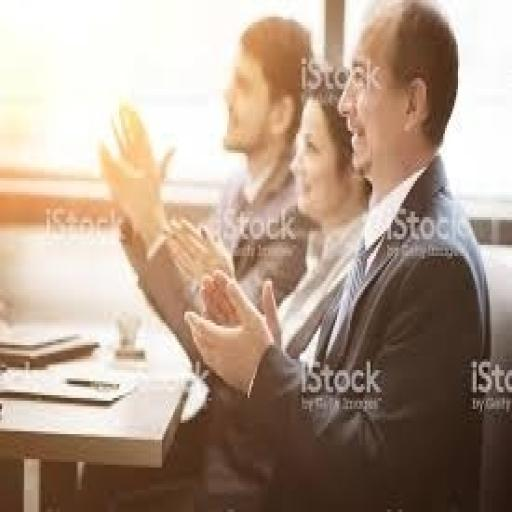clapping: (182, 0, 492, 509), (96, 36, 328, 433)
